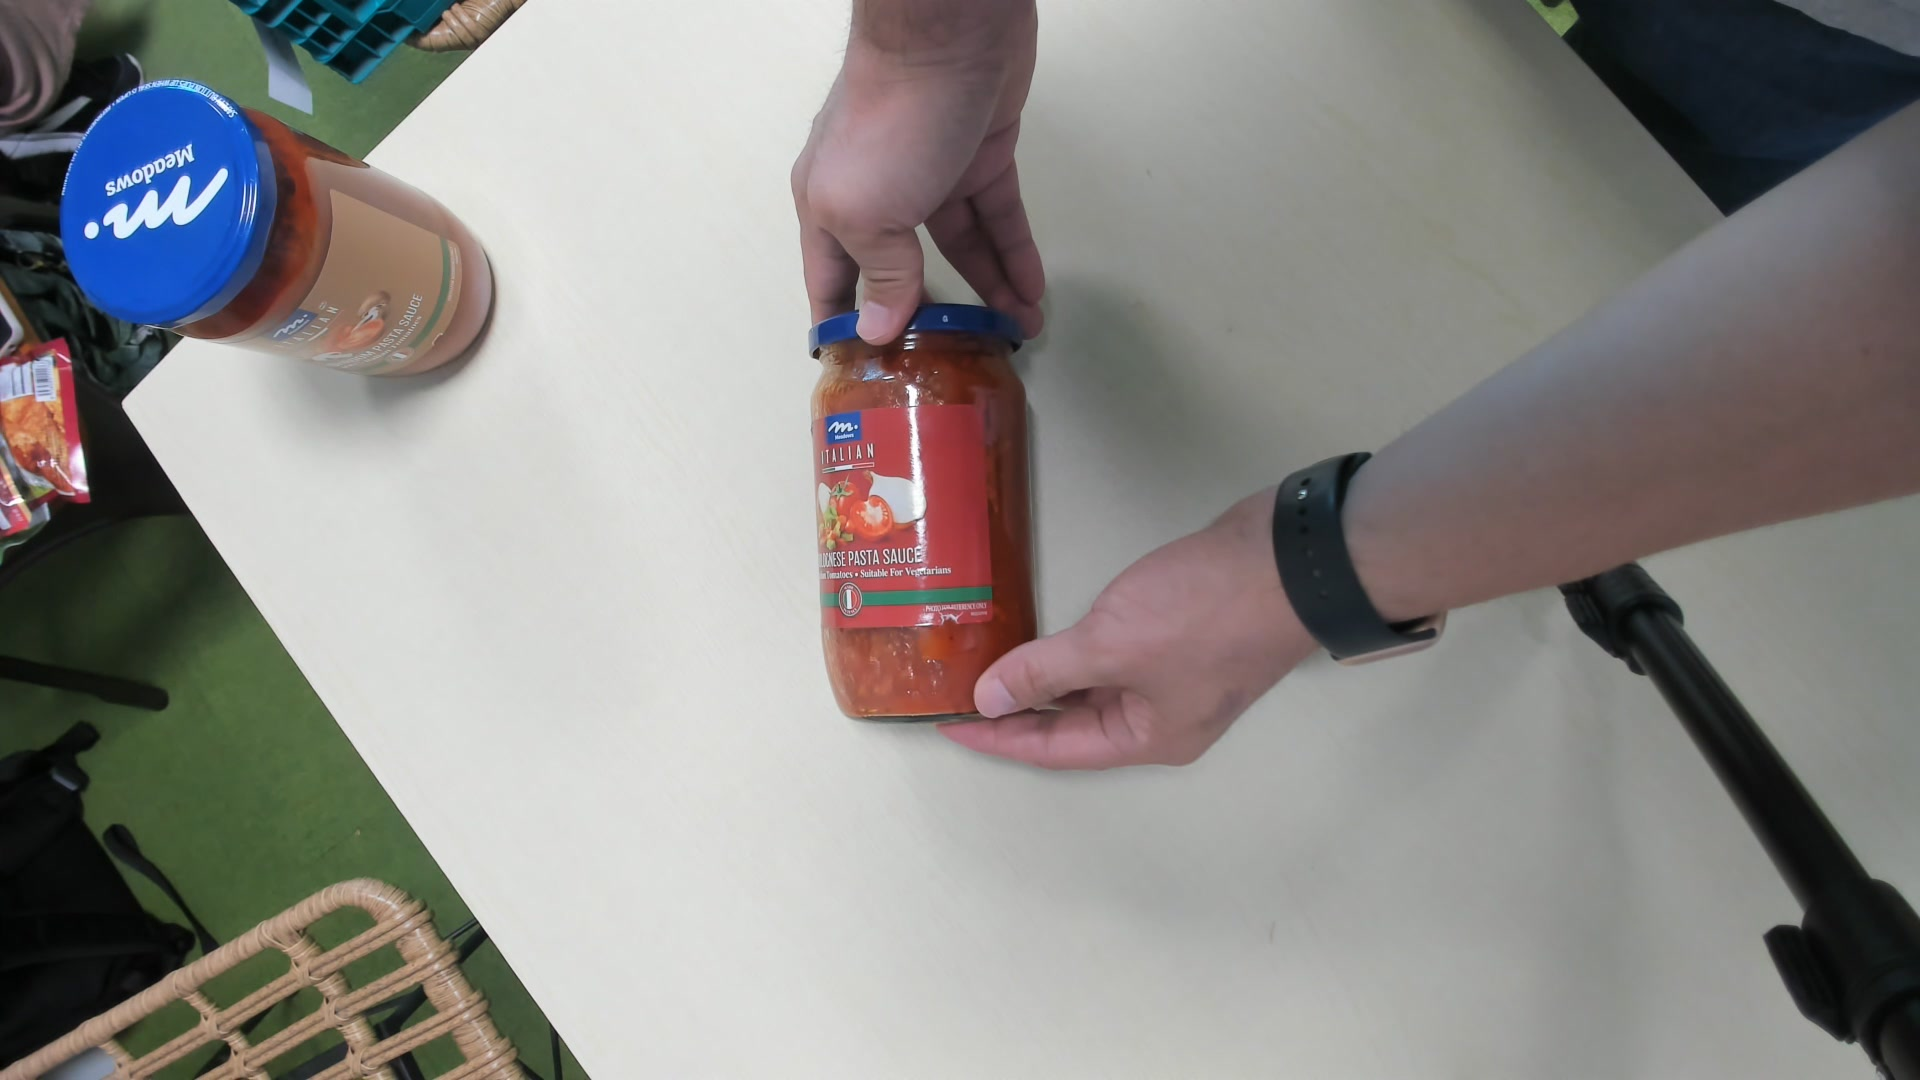PastaSauce_600-699g_Halal_NonHealthy: (804, 313, 1040, 720)
